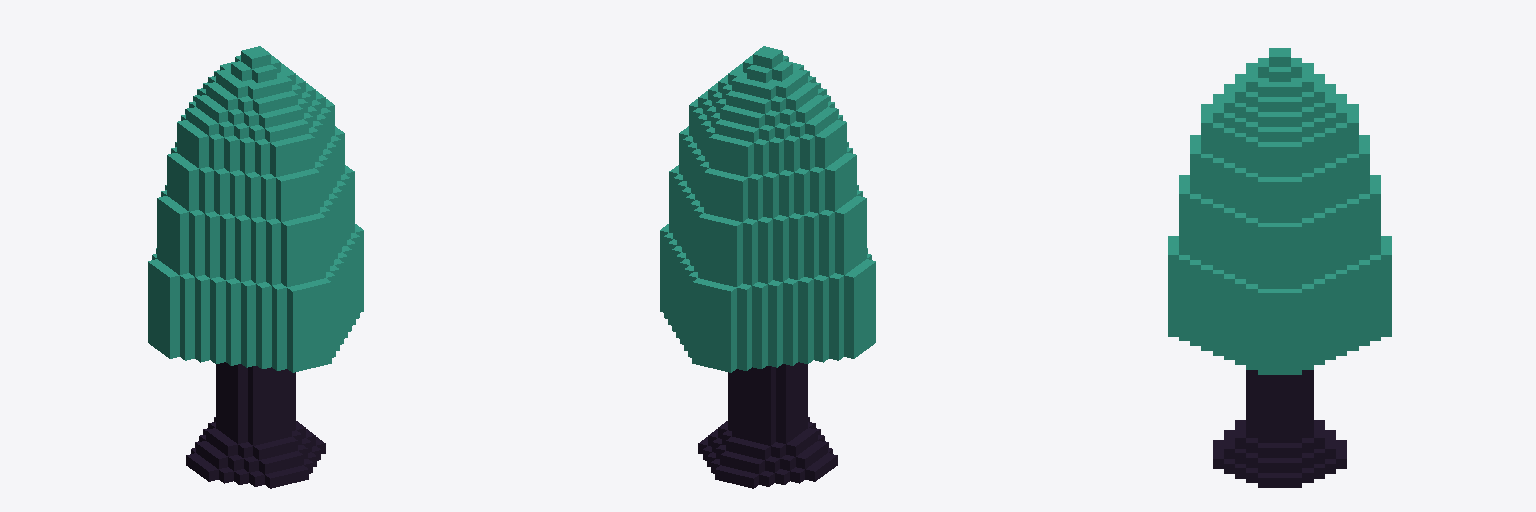
3 renders of one model, left to right at view 1: azimuth 30°, elevation 25°; view 2: azimuth 150°, elevation 25°; view 3: azimuth 270°, elevation 25°, orthographic.
Visible parts, largest first — view 1: object 1; view 2: object 1; view 3: object 1.
Part boxes in pixels (left/top/right/bottom): object 1: left=148, top=46, right=363, bottom=488; object 1: left=660, top=46, right=875, bottom=488; object 1: left=1168, top=48, right=1391, bottom=487.
Bounding box in the file's own units: 2 × 4 × 2.
Materials: 1 (1 with a texture image).